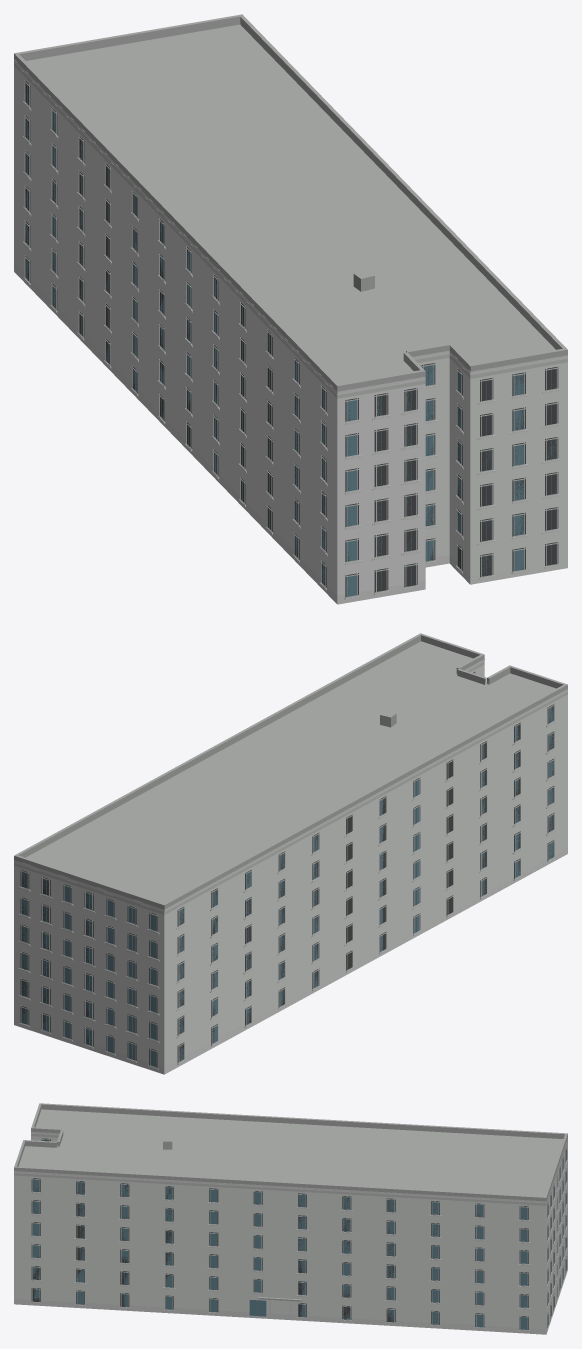
Rendered from cop_hotel_contemporaneo_02__way_1042041782.fbx.
3 renders of one model, top to bottom at view 1: azimuth 30°, elevation 25°; view 2: azimuth 150°, elevation 25°; view 3: azimuth 270°, elevation 25°, orthographic. The views are drawn at different scales.
Visible parts, largest first — view 1: cop_hotel_contemporaneo_02__way_1042041782_roof, cop_hotel_contemporaneo_02__way_1042041782_wall, cop_hotel_contemporaneo_02__way_1042041782_shadow, cop_hotel_contemporaneo_02__way_1042041782_trim, cop_hotel_contemporaneo_02__way_1042041782_stone, cop_hotel_contemporaneo_02__way_1042041782_glass, cop_hotel_contemporaneo_02__way_1042041782_metal; view 2: cop_hotel_contemporaneo_02__way_1042041782_wall, cop_hotel_contemporaneo_02__way_1042041782_roof, cop_hotel_contemporaneo_02__way_1042041782_trim, cop_hotel_contemporaneo_02__way_1042041782_shadow, cop_hotel_contemporaneo_02__way_1042041782_glass, cop_hotel_contemporaneo_02__way_1042041782_stone, cop_hotel_contemporaneo_02__way_1042041782_metal; view 3: cop_hotel_contemporaneo_02__way_1042041782_wall, cop_hotel_contemporaneo_02__way_1042041782_roof, cop_hotel_contemporaneo_02__way_1042041782_trim, cop_hotel_contemporaneo_02__way_1042041782_glass, cop_hotel_contemporaneo_02__way_1042041782_stone, cop_hotel_contemporaneo_02__way_1042041782_shadow, cop_hotel_contemporaneo_02__way_1042041782_metal.
Part boxes in pixels (box(x1,y1,x2,y2)): cop_hotel_contemporaneo_02__way_1042041782_roof: box(14, 14, 567, 391); cop_hotel_contemporaneo_02__way_1042041782_wall: box(14, 61, 567, 604); cop_hotel_contemporaneo_02__way_1042041782_shadow: box(25, 80, 558, 597); cop_hotel_contemporaneo_02__way_1042041782_trim: box(14, 62, 567, 597); cop_hotel_contemporaneo_02__way_1042041782_stone: box(14, 59, 567, 604); cop_hotel_contemporaneo_02__way_1042041782_glass: box(25, 84, 556, 596); cop_hotel_contemporaneo_02__way_1042041782_metal: box(27, 85, 551, 595); cop_hotel_contemporaneo_02__way_1042041782_wall: box(14, 661, 567, 1074); cop_hotel_contemporaneo_02__way_1042041782_roof: box(14, 633, 567, 909); cop_hotel_contemporaneo_02__way_1042041782_trim: box(14, 661, 567, 1068); cop_hotel_contemporaneo_02__way_1042041782_shadow: box(20, 671, 553, 1067); cop_hotel_contemporaneo_02__way_1042041782_glass: box(21, 707, 553, 1067); cop_hotel_contemporaneo_02__way_1042041782_stone: box(14, 659, 567, 1074); cop_hotel_contemporaneo_02__way_1042041782_metal: box(24, 707, 551, 1066); cop_hotel_contemporaneo_02__way_1042041782_wall: box(14, 1133, 567, 1334); cop_hotel_contemporaneo_02__way_1042041782_roof: box(14, 1103, 567, 1301); cop_hotel_contemporaneo_02__way_1042041782_trim: box(14, 1133, 567, 1330); cop_hotel_contemporaneo_02__way_1042041782_glass: box(33, 1139, 566, 1329); cop_hotel_contemporaneo_02__way_1042041782_stone: box(14, 1131, 567, 1334); cop_hotel_contemporaneo_02__way_1042041782_shadow: box(31, 1138, 566, 1329); cop_hotel_contemporaneo_02__way_1042041782_metal: box(36, 1140, 563, 1329).
Bounding box in the file's own units: 2773 × 1913 × 6855.
